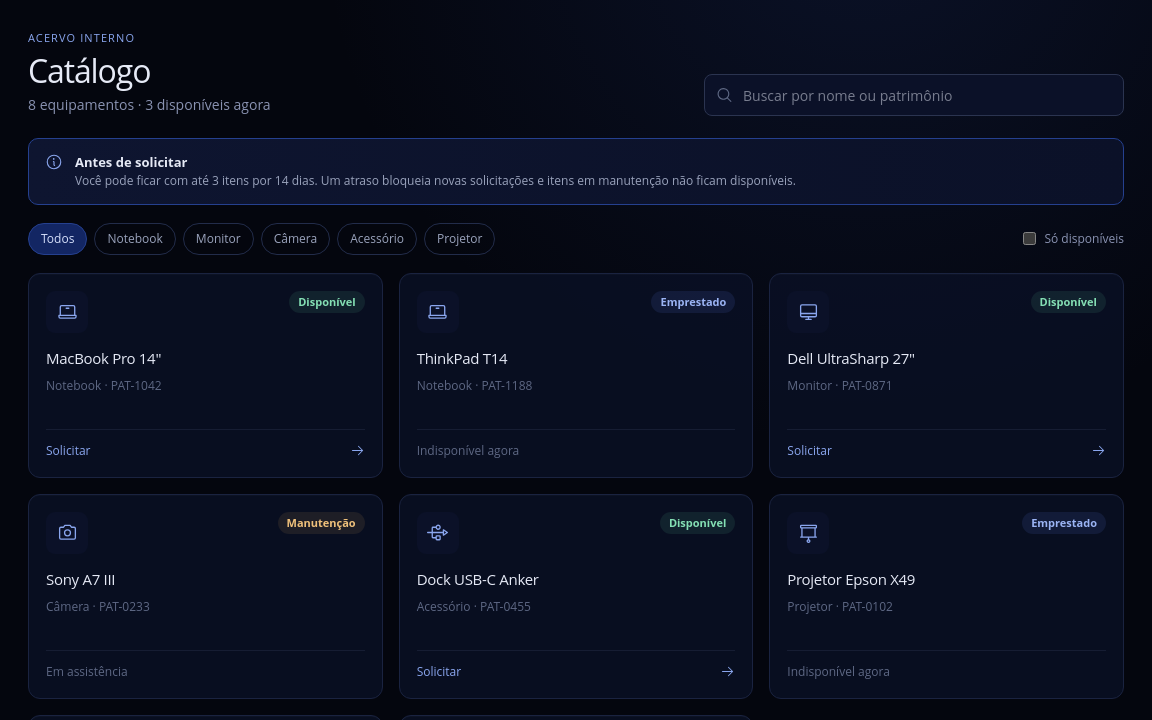
Scenario: CatalogView › filtra somente os disponíveis
Click the checkbox labelled "Só disponíveis" at (1030, 239), box [1023,232,1036,245]
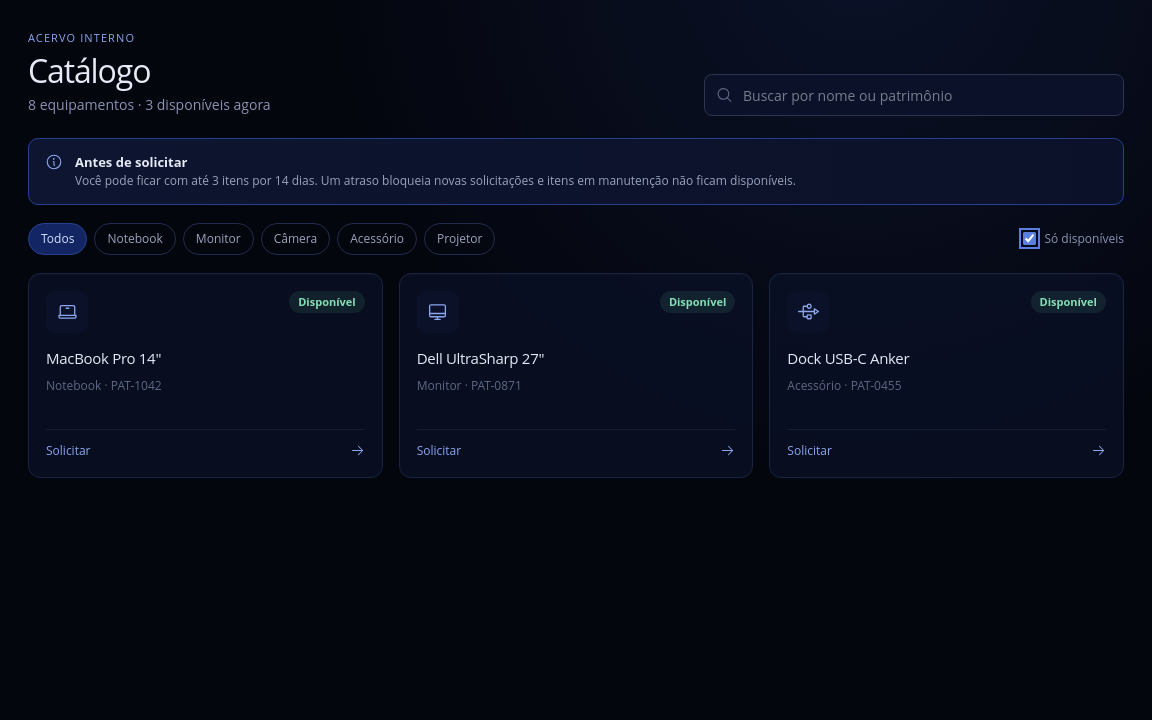
Expected: the heading "MacBook Pro 14\"" is shown, [46,348,161,368]
Expected: the heading "ThinkPad T14" is gone
